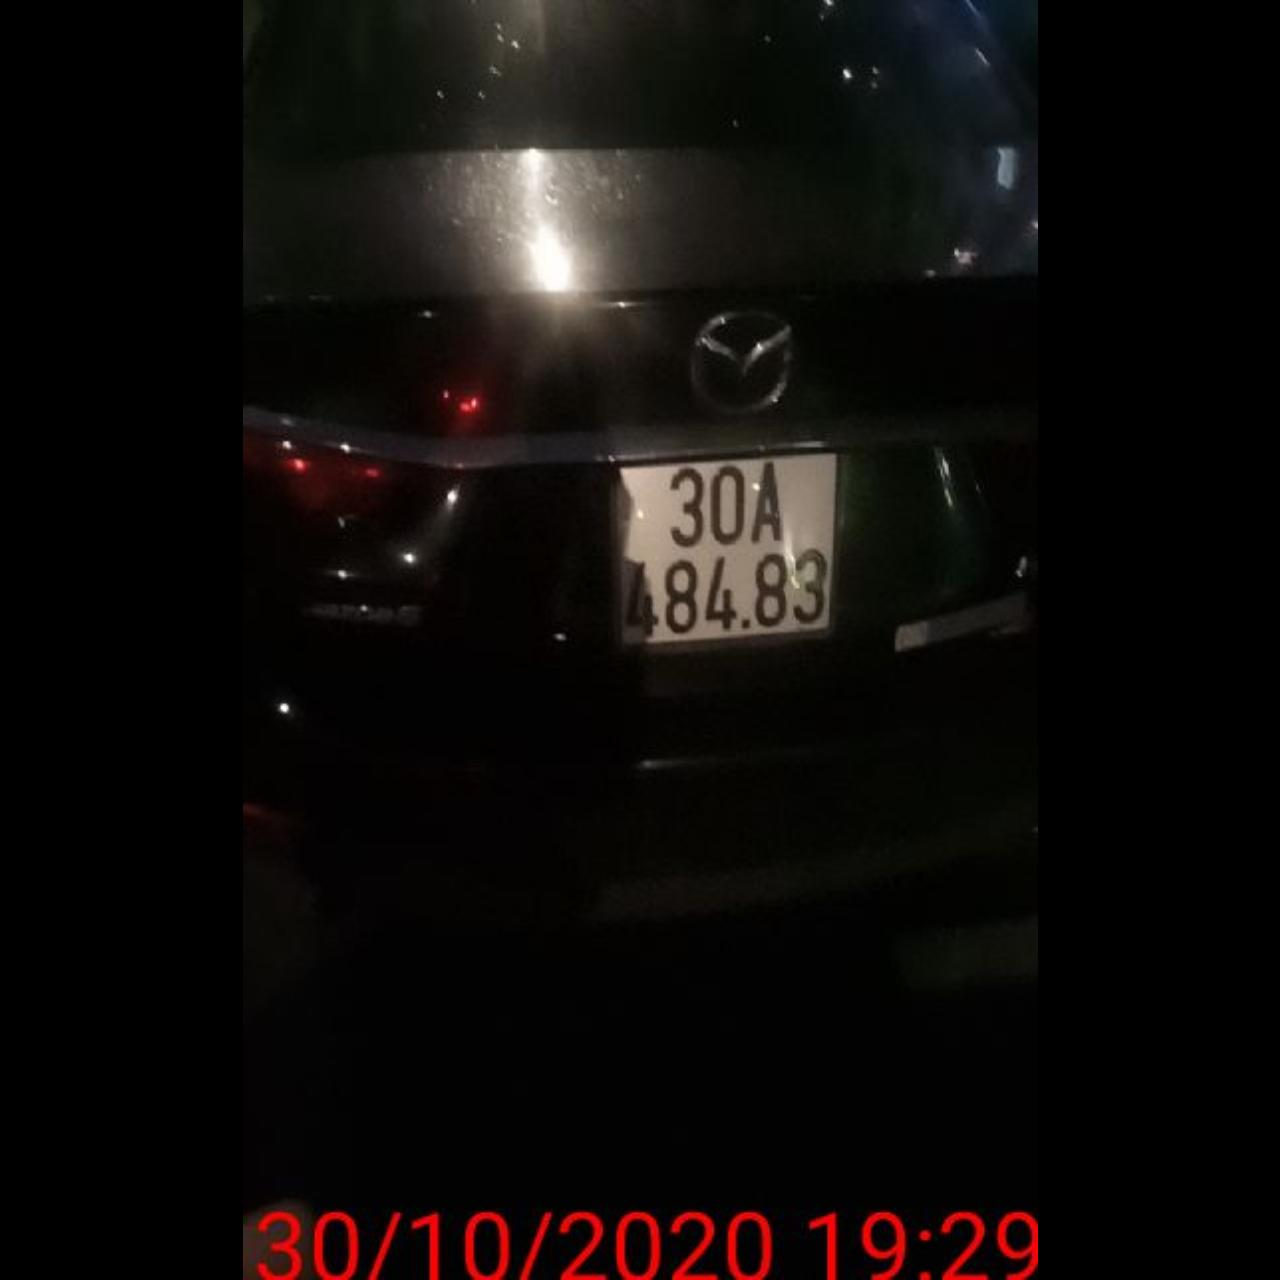bienso: (610, 445, 848, 657)
